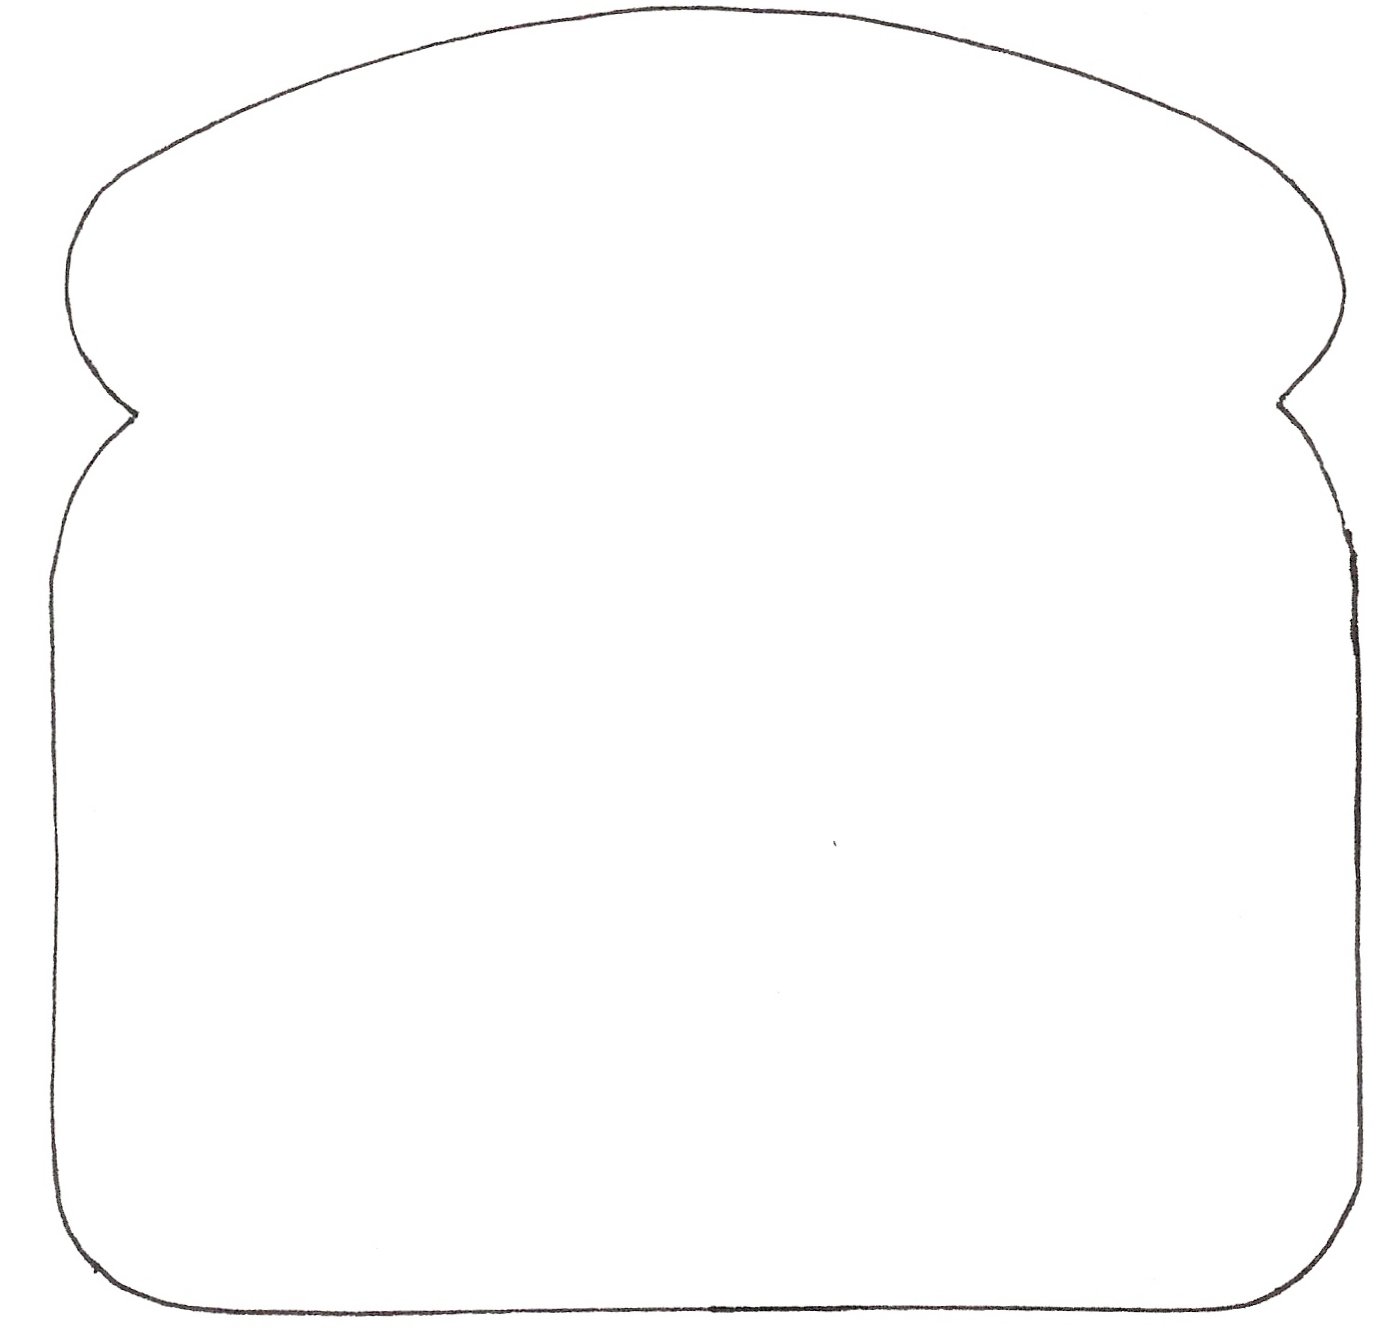slice of bread: (66, 122, 1360, 1318)
